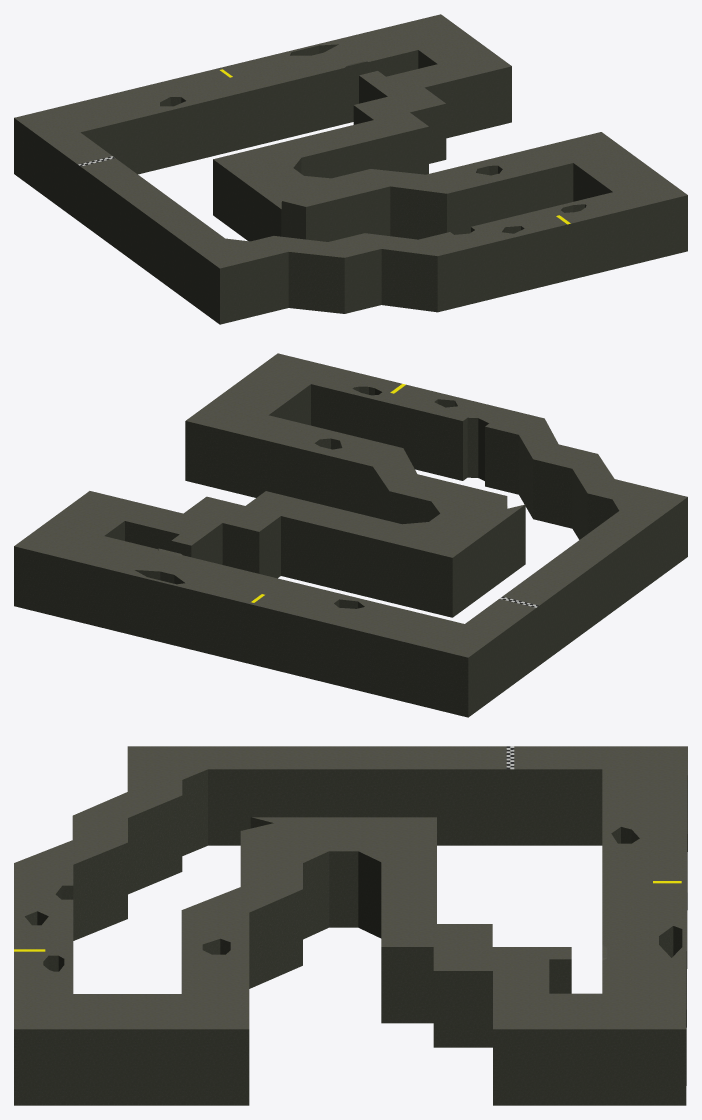
3 renders of one model, top to bottom at view 1: azimuth 30°, elevation 25°; view 2: azimuth 150°, elevation 25°; view 3: azimuth 270°, elevation 25°, orthographic. The views are drawn at different scales.
Parts seen in each view (by area): view 1: coursemodel-SKP--Wall, coursemodel-SKP--Road; view 2: coursemodel-SKP--Wall, coursemodel-SKP--Road; view 3: coursemodel-SKP--Wall, coursemodel-SKP--Road.
Boxes of the visible parts, x1,y1,x2,y2 form: coursemodel-SKP--Wall: (14, 44, 687, 324); coursemodel-SKP--Road: (14, 14, 687, 268); coursemodel-SKP--Wall: (14, 384, 687, 717); coursemodel-SKP--Road: (14, 353, 687, 657); coursemodel-SKP--Wall: (14, 769, 687, 1105); coursemodel-SKP--Road: (14, 746, 687, 1029).
Size of what is drawn, in the model's own units: 27935 by 3574 by 28106.
Materials: 5 (5 with a texture image).
